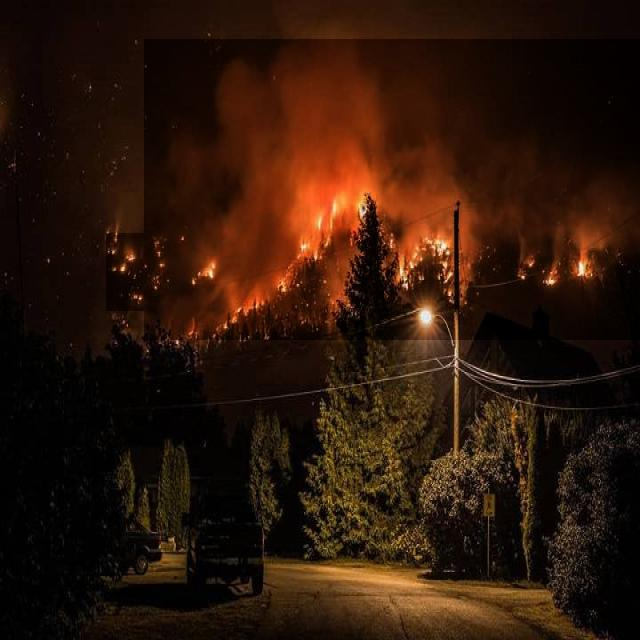Fire: (106, 234, 177, 312), (303, 191, 379, 252), (403, 232, 462, 295), (224, 298, 267, 340), (260, 270, 302, 302), (193, 252, 227, 290), (574, 248, 593, 281), (546, 270, 562, 298)
Smoke: (144, 39, 640, 340)
